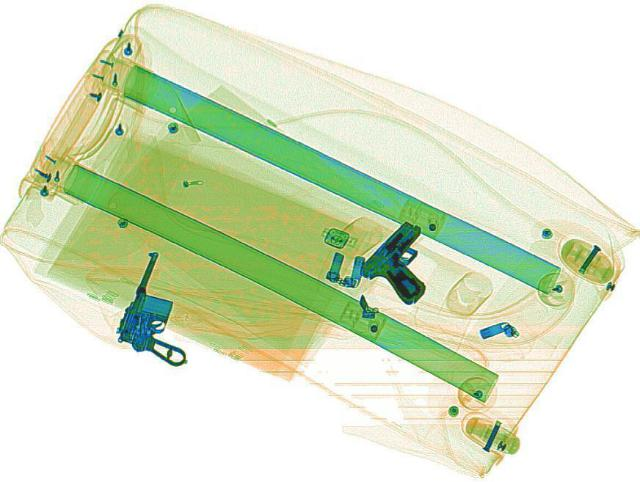Gun: (106, 246, 227, 365), (344, 216, 470, 306)
